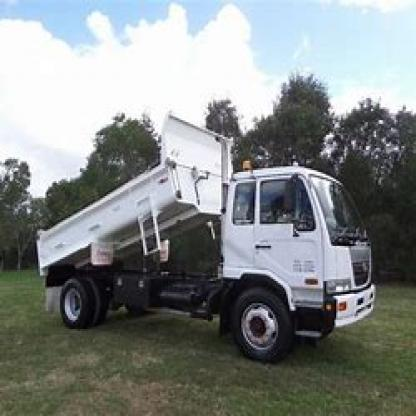dump_truck: (25, 104, 383, 364)
